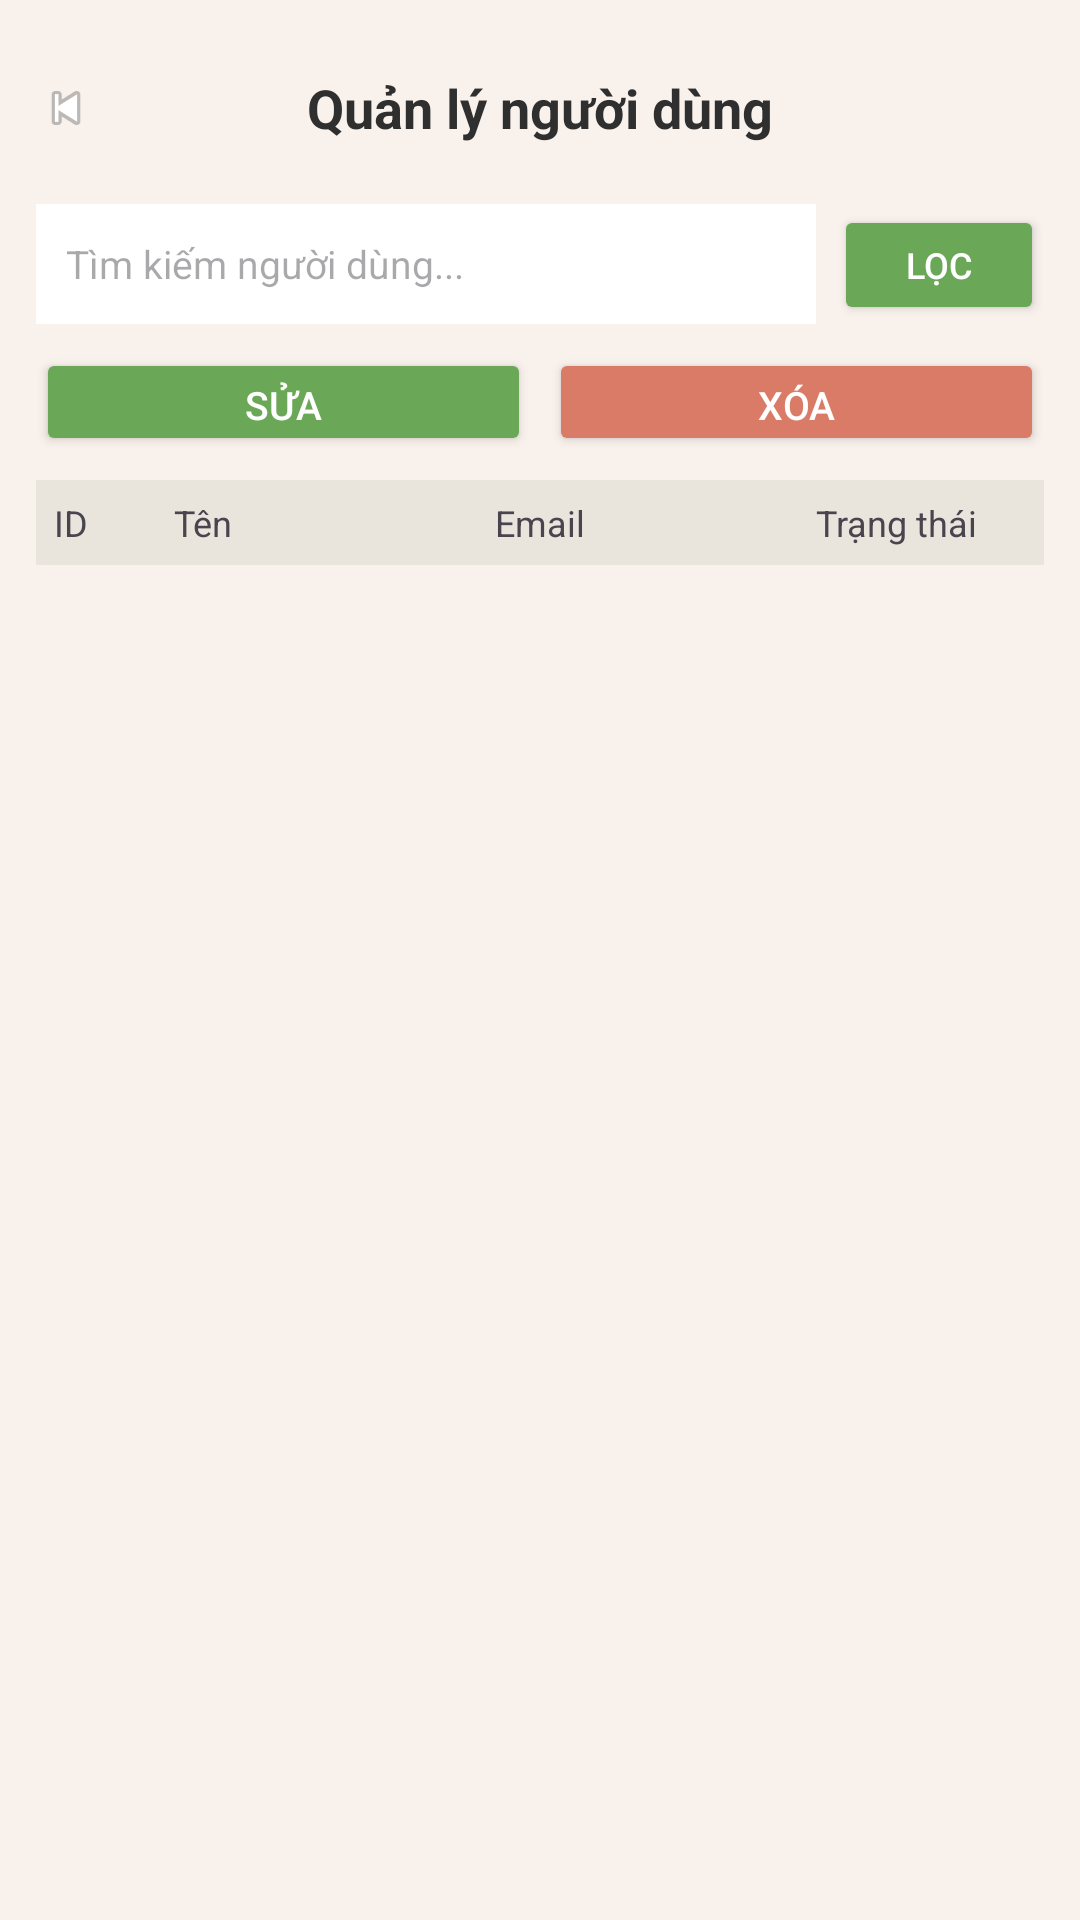

Locate icon controls on the screen. Image size 1080x1920, boxes as (x1=x1, y1=y1, x2=x2, y2=y2).
previous: (x1=51, y1=91, x2=81, y2=125)
